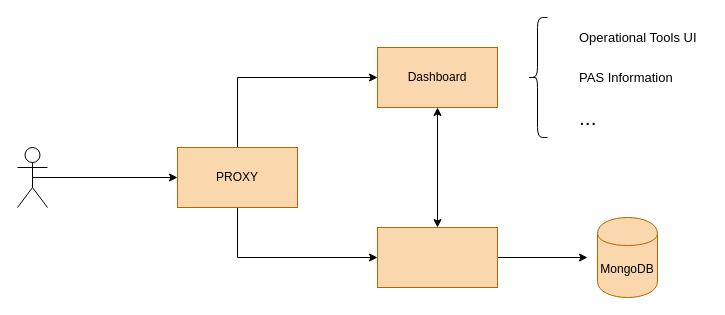
Some shapes in this 725 by 315 pixel diagram are drawn without their labels. Each missing label, with the box of its shape:
Actor: (16, 146, 48, 208)
API: (376, 226, 498, 288)
